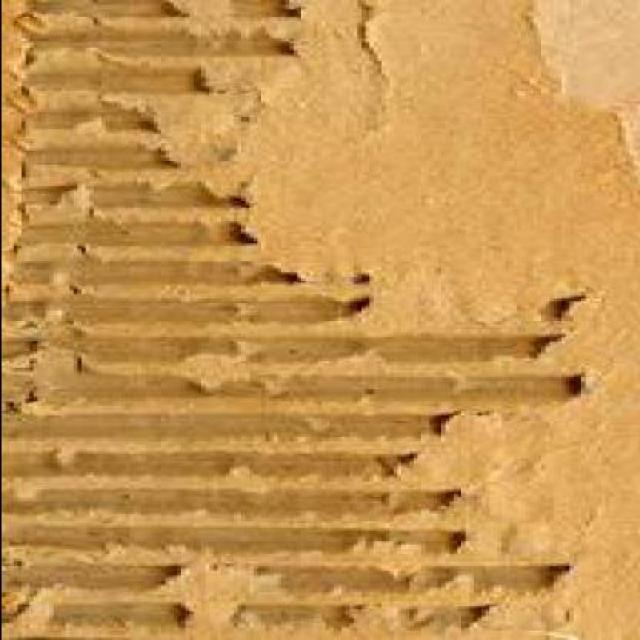CARDBOARD: (3, 0, 639, 640)
